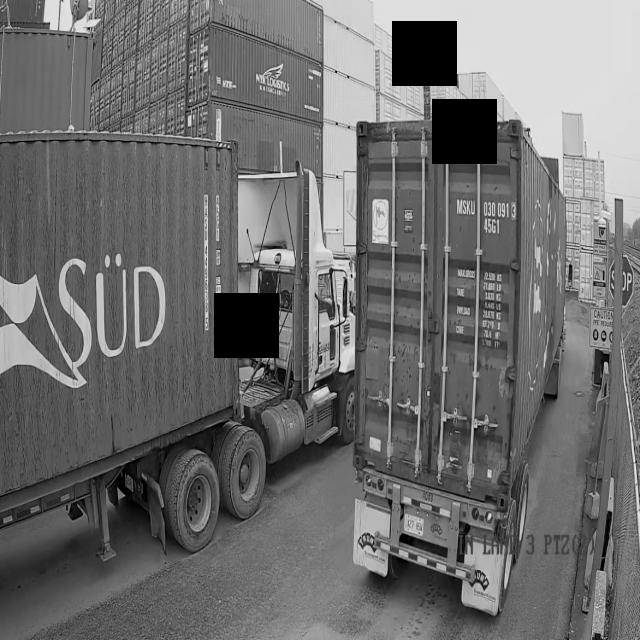container_number: (453, 191, 519, 233)
container_side_no: (200, 182, 212, 336)
truck_with_container: (0, 131, 357, 560), (352, 120, 565, 615)
